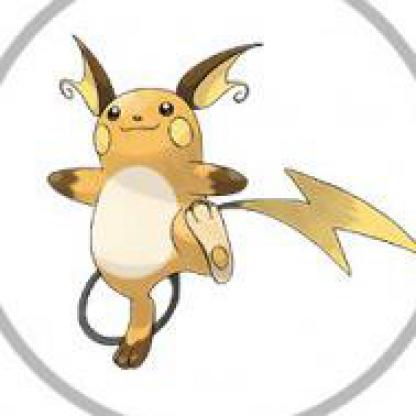Raichu: (1, 12, 415, 415)
